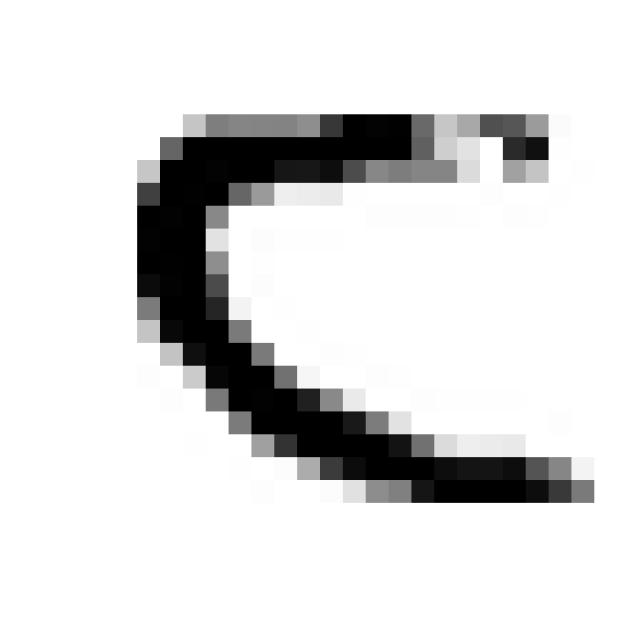2 -two-: (112, 84, 613, 532)
